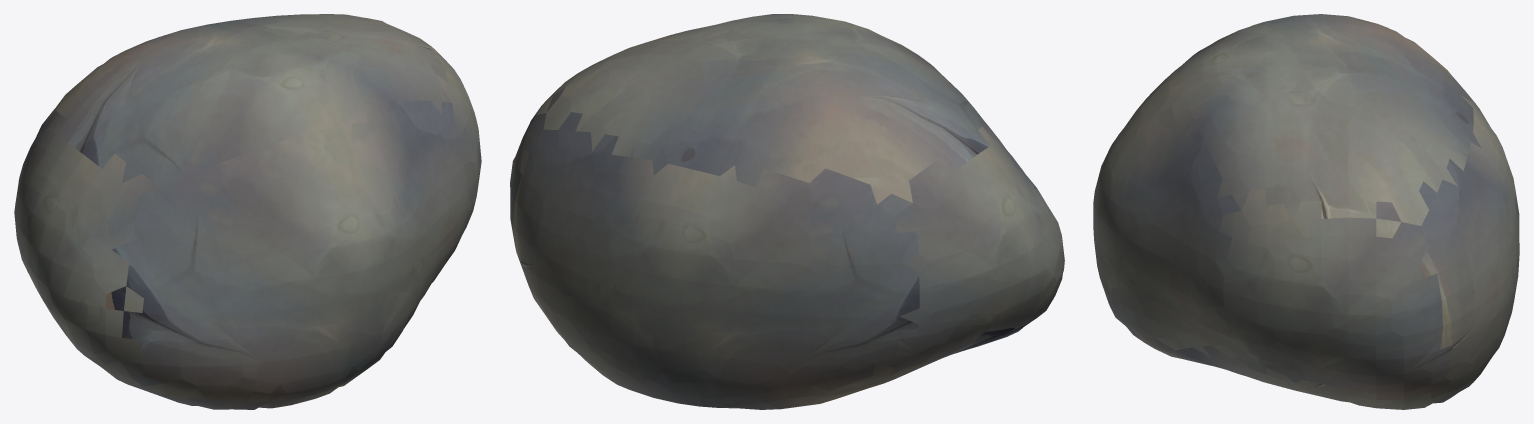
Rendered from mossy_stone1_s23974.gltf.
The picture shows the model from 3 angles, left to right: view 1: azimuth 30°, elevation 25°; view 2: azimuth 150°, elevation 25°; view 3: azimuth 270°, elevation 25°; orthographic projection. The views are drawn at different scales.
Visible parts, largest first — view 1: mossy_stone1_s23974_stone_LOD0; view 2: mossy_stone1_s23974_stone_LOD0; view 3: mossy_stone1_s23974_stone_LOD0.
Part boxes in pixels (box(x1,y1,x2,y2)): mossy_stone1_s23974_stone_LOD0: box(14, 14, 481, 409); mossy_stone1_s23974_stone_LOD0: box(510, 14, 1064, 409); mossy_stone1_s23974_stone_LOD0: box(1093, 14, 1519, 409).
Size of what is drawn, in the model's own units: 0.6697 by 0.4134 by 0.5415.
1 material, 1 textured.
